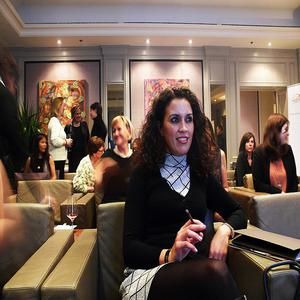cigarette: (184, 208, 196, 225)
